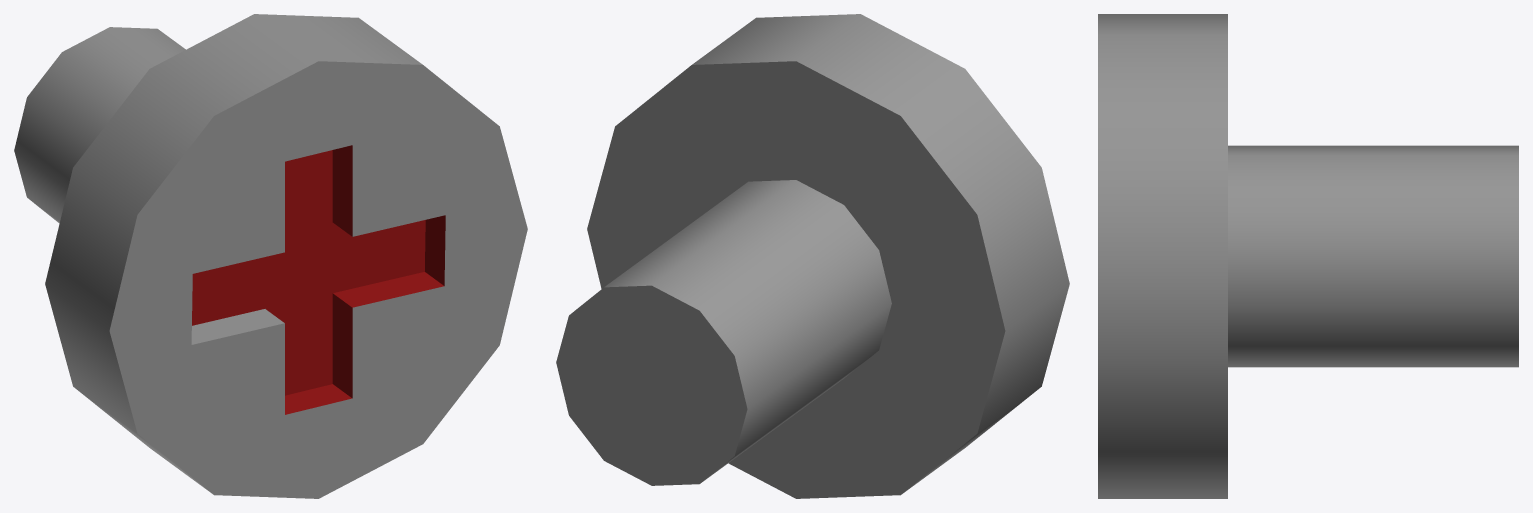
The picture shows the model from 3 angles, left to right: view 1: azimuth 30°, elevation 25°; view 2: azimuth 150°, elevation 25°; view 3: azimuth 270°, elevation 25°; orthographic projection.
Visible parts, largest first — view 1: oc_low, Object001; view 2: oc_low; view 3: oc_low.
Boxes of the visible parts, box(x1,y1,x2,y2) form: oc_low: box(14, 14, 527, 498); Object001: box(192, 145, 445, 414); oc_low: box(556, 14, 1069, 498); oc_low: box(1098, 14, 1518, 498).
Bounding box in the file's own units: 67.84 × 67.84 × 58.65.
